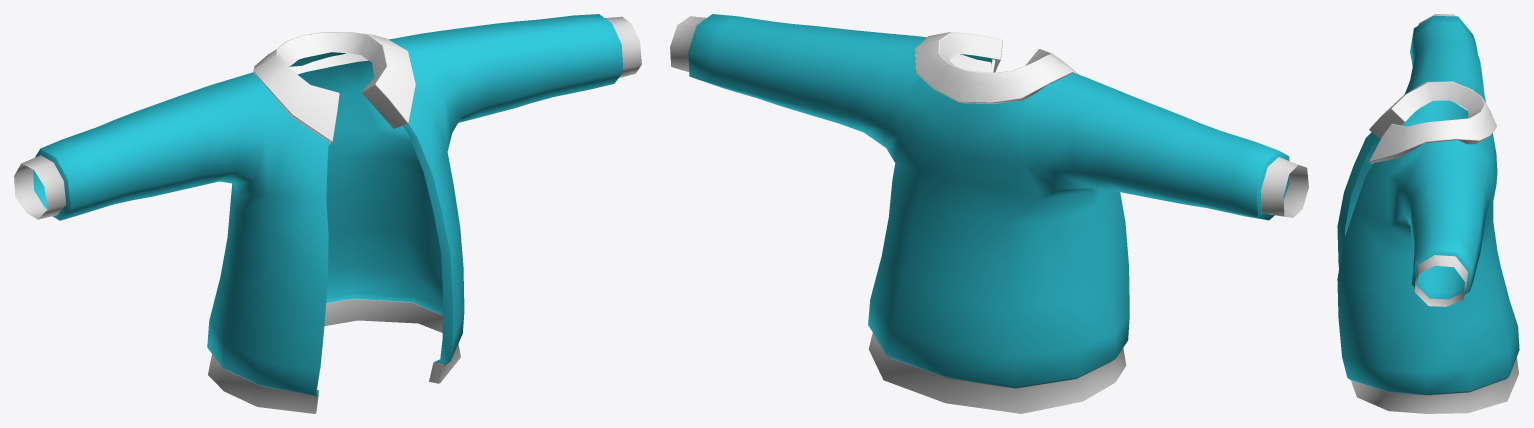
The model's file is Outerwear_Light_Blue_006.glb.
3 renders of one model, left to right at view 1: azimuth 30°, elevation 25°; view 2: azimuth 150°, elevation 25°; view 3: azimuth 270°, elevation 25°, orthographic. The views are drawn at different scales.
Parts seen in each view (by area): view 1: Outerwear_Light_Blue_006; view 2: Outerwear_Light_Blue_006; view 3: Outerwear_Light_Blue_006.
Part boxes in pixels (x1,y1,x2,y2): Outerwear_Light_Blue_006: [14, 14, 641, 413]; Outerwear_Light_Blue_006: [670, 14, 1308, 413]; Outerwear_Light_Blue_006: [1337, 14, 1519, 413].
Size of the model in its own units: 1.29 by 0.6459 by 0.3903.
Materials: 1 (1 with a texture image).
